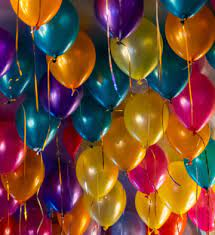Balloon: (106, 19, 160, 80), (46, 33, 96, 88), (166, 6, 215, 60), (34, 1, 80, 57), (173, 72, 215, 131), (16, 96, 59, 152), (125, 92, 169, 144), (76, 147, 118, 196), (128, 145, 168, 194), (126, 91, 164, 142), (73, 97, 111, 141), (46, 166, 81, 210)
